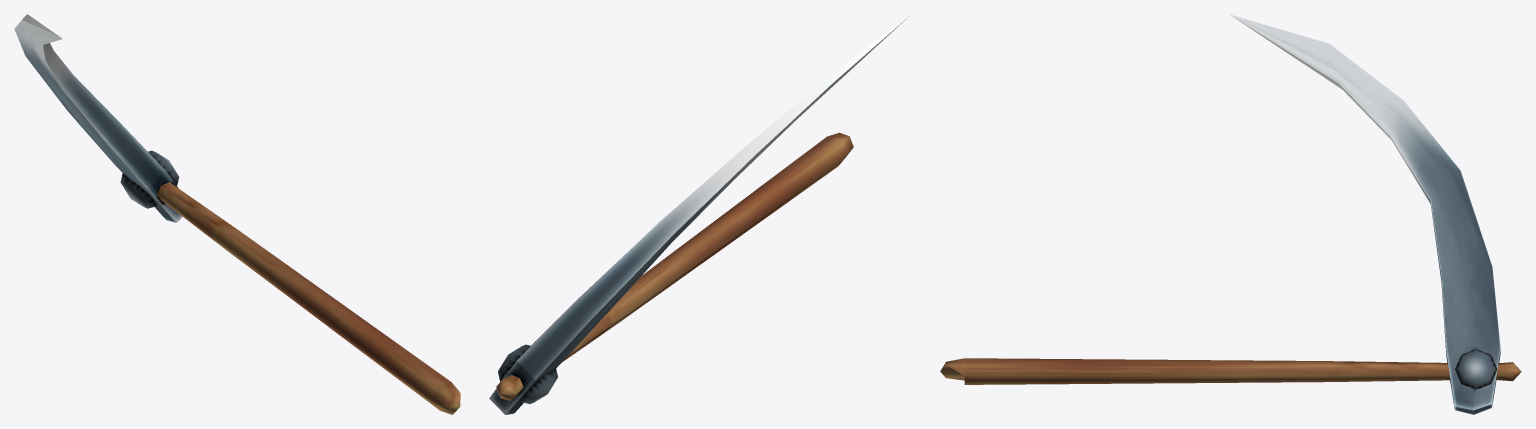
Rendered from father-time.fbx.
3 views of the same model, side by side, from view 1: azimuth 30°, elevation 25°; view 2: azimuth 150°, elevation 25°; view 3: azimuth 270°, elevation 25° (orthographic). The views are drawn at different scales.
Parts seen in each view (by area): view 1: axe001; view 2: axe001; view 3: axe001.
Boxes of the visible parts, x1,y1,x2,y2 form: axe001: [14, 14, 460, 414]; axe001: [489, 15, 910, 414]; axe001: [940, 14, 1521, 414].
Size of the model in its own units: 0.4874 by 0.6069 by 1.07.
